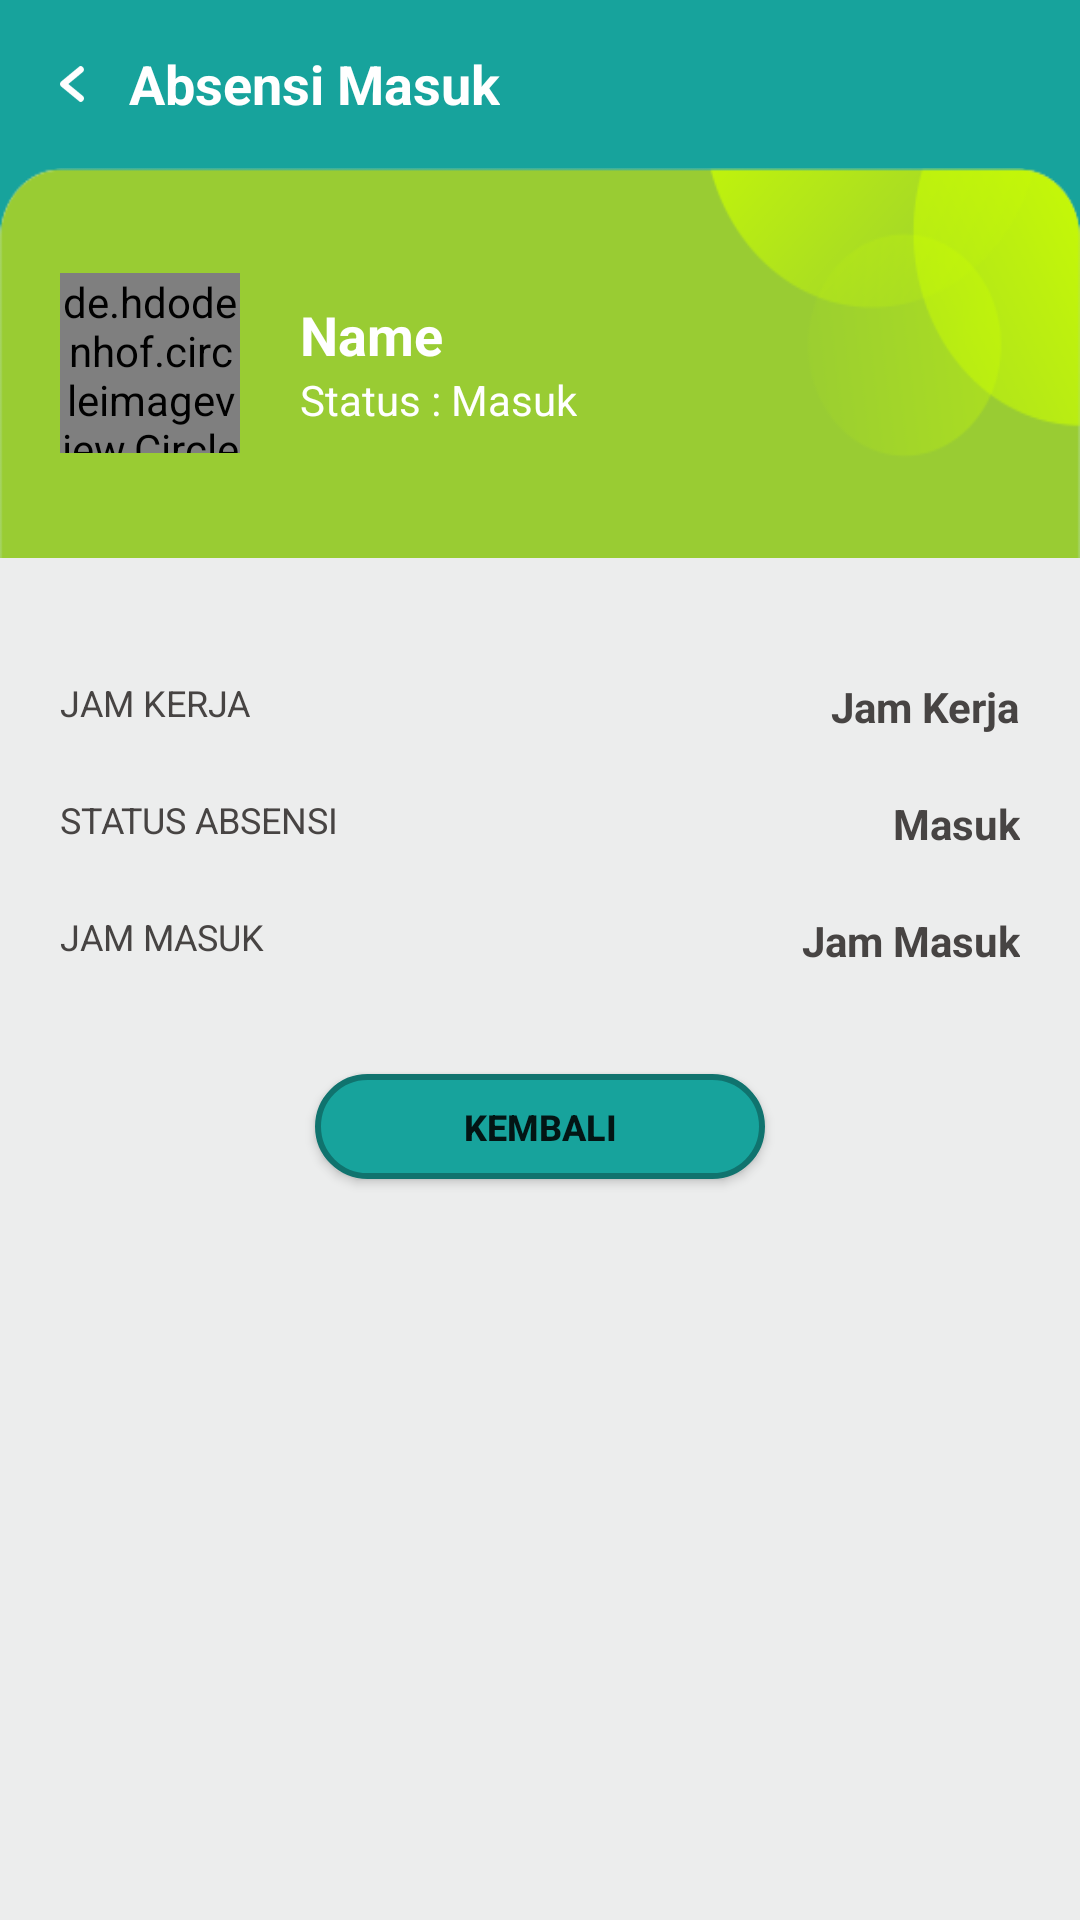

Where to tap for icons on this 1080w x 1920h app screen, as (x=x, y=y):
back: (x=72, y=84)
